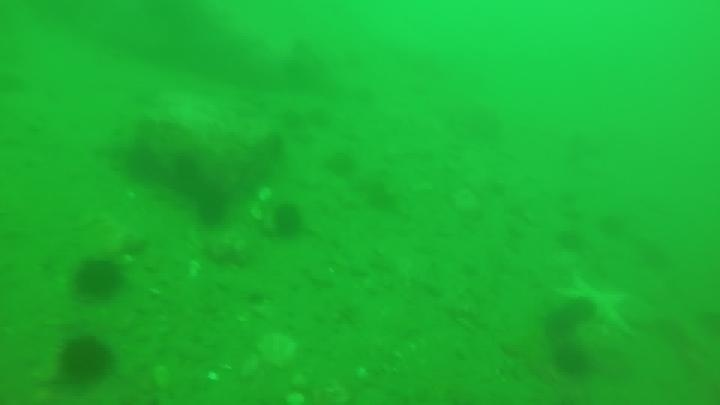echinus: (56, 335, 114, 385), (70, 257, 125, 303), (551, 342, 591, 378), (270, 202, 305, 240), (544, 309, 580, 341), (566, 296, 591, 320)
starfish: (551, 270, 634, 338)
